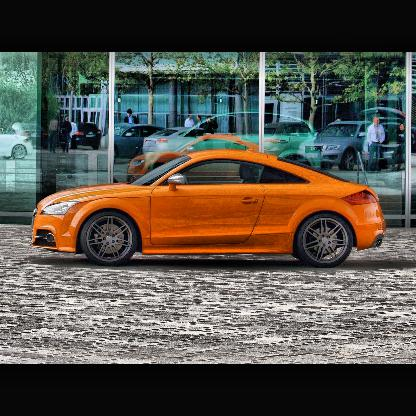Audi TT Hatchback 2011: (24, 145, 386, 275)
